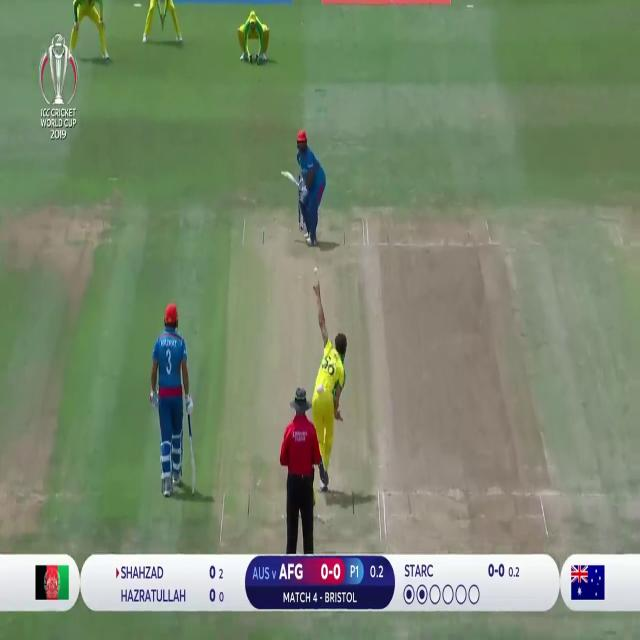ball: (312, 260, 318, 276)
